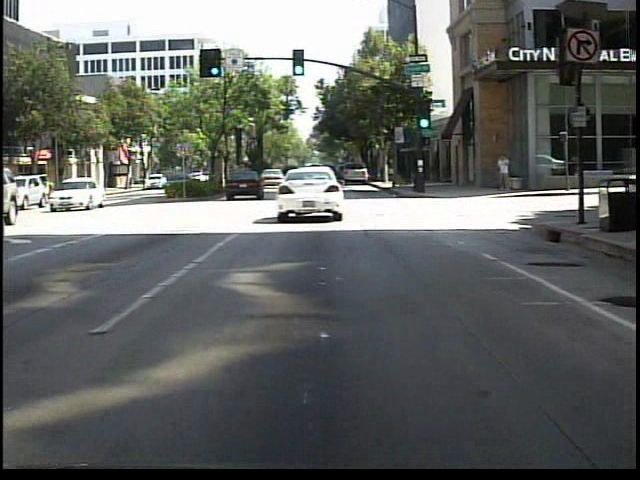person: (493, 153, 512, 196)
